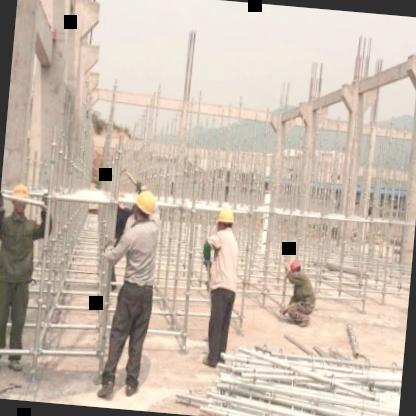helmet: (132, 190, 158, 228), (5, 181, 30, 215), (215, 206, 236, 242), (288, 258, 302, 280)
